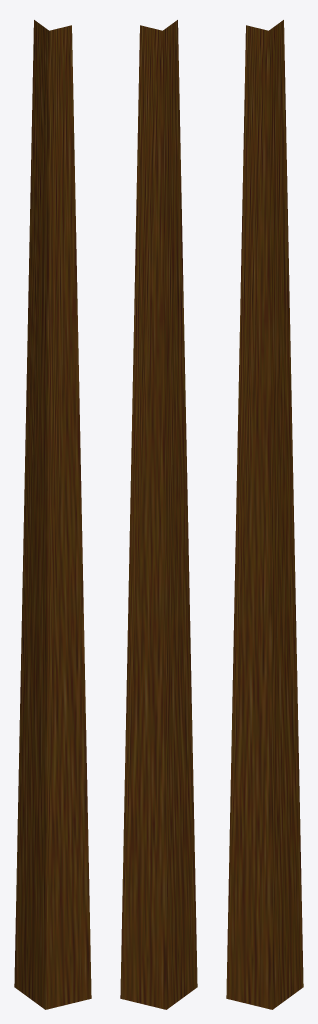
The model's file is tree06.glb.
3 renders of one model, left to right at view 1: azimuth 30°, elevation 25°; view 2: azimuth 150°, elevation 25°; view 3: azimuth 330°, elevation 25°, orthographic.
Parts seen in each view (by area): view 1: tree06; view 2: tree06; view 3: tree06.
Boxes of the visible parts, <box> form: tree06: <box>14,20,91,1009</box>; tree06: <box>120,20,197,1009</box>; tree06: <box>226,20,303,1009</box>.
Size of the model in its own units: 43.51 by 875 by 50.76.
Materials: 1 (1 with a texture image).
